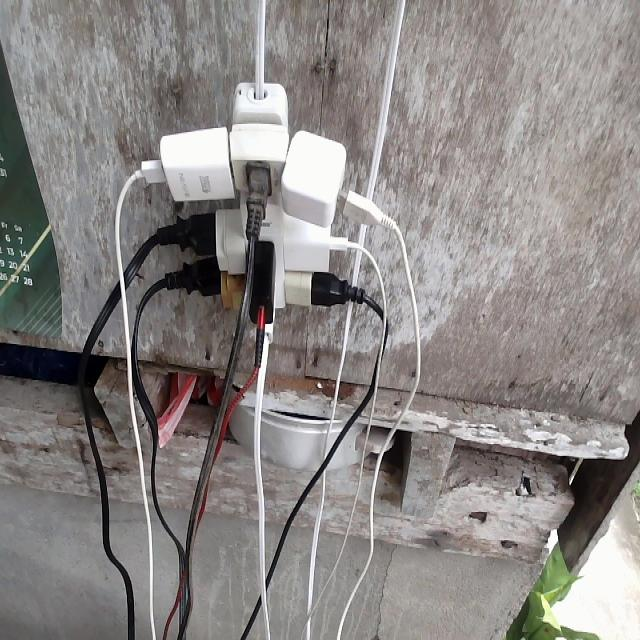-: (114, 77, 398, 363)
